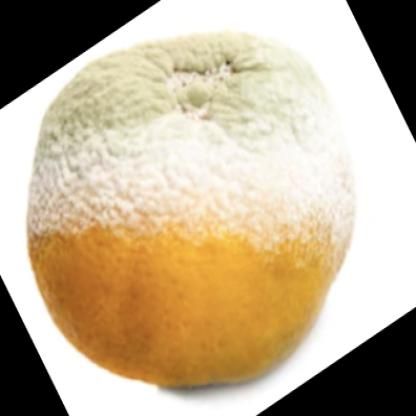rotten: (27, 33, 361, 393)
